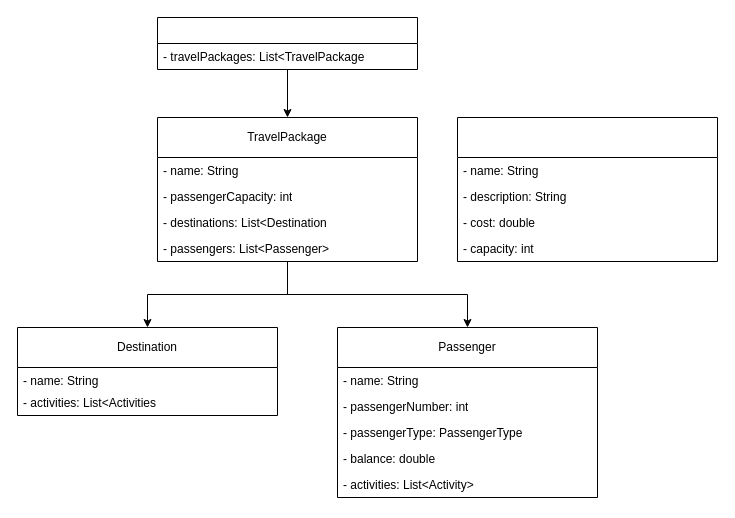
Some shapes in this 735 by 518 pixel diagram are drawn without their labels. Each missing label, with the box of its shape:
Activity: (456, 116, 718, 262)
Travel Agency: (156, 16, 418, 70)
